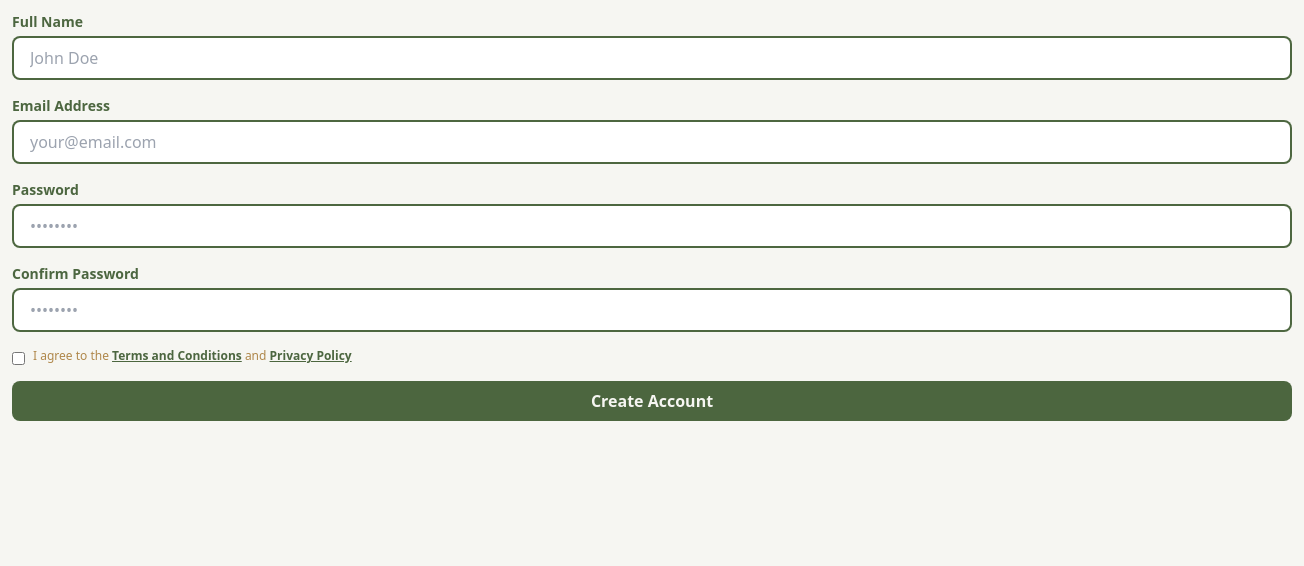
Test: RegisterForm › should show password requirements
Step 1. Type "Test123" into the password field labelled "Password" → {"x": 652, "y": 226}, box [12, 204, 1292, 248]
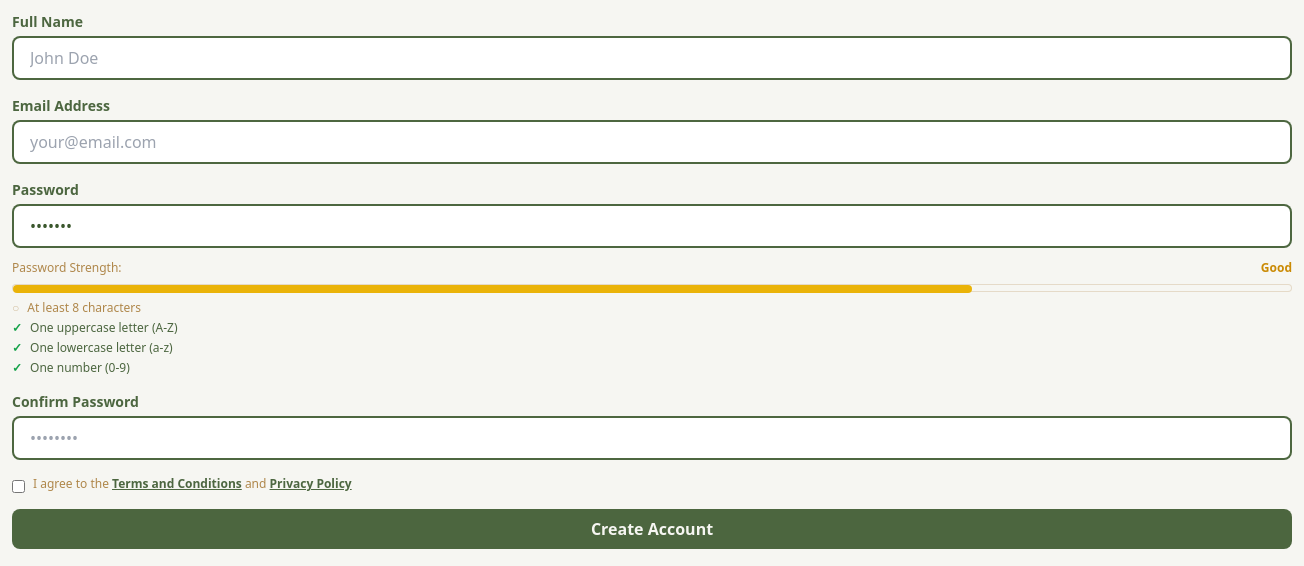
Check: the text "At least 8 characters" is shown, box [27, 300, 141, 316]
Check: the text "One uppercase letter (A-Z)" is shown, box [30, 320, 178, 336]
Check: the text "One lowercase letter (a-z)" is shown, box [30, 340, 173, 356]
